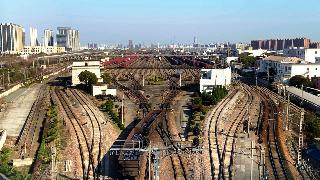train: (117, 108, 165, 177)
